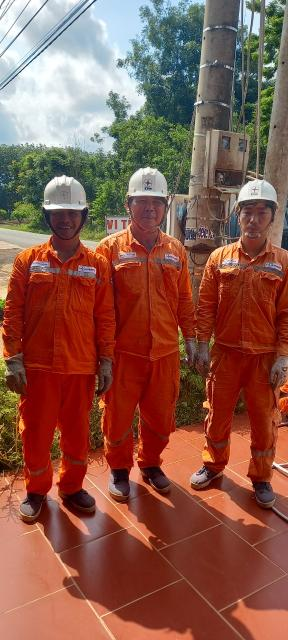gloves: (84, 346, 119, 399), (4, 348, 36, 400), (193, 334, 220, 387), (267, 347, 288, 396), (177, 332, 196, 369)
helmet: (29, 164, 102, 223), (118, 161, 192, 210), (230, 175, 288, 208)
shoes: (245, 475, 288, 531), (98, 458, 141, 514), (186, 448, 235, 495), (56, 477, 104, 523), (138, 454, 178, 500), (12, 483, 52, 528)
